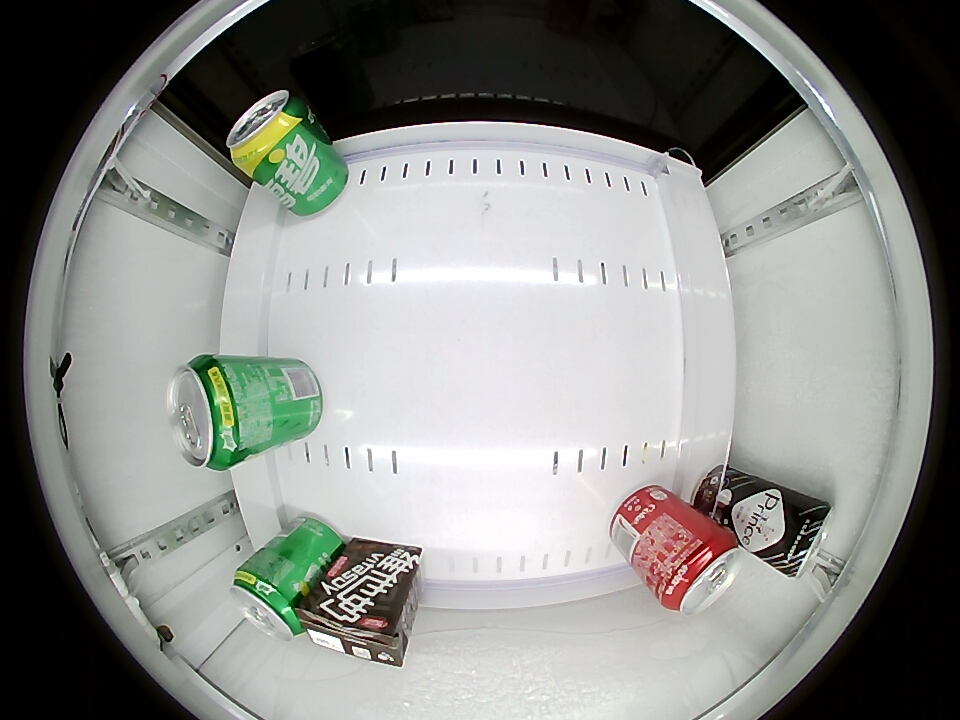kele: (656, 531, 741, 615)
qingdaowangzi-1: (774, 497, 832, 578)
weitanai2: (299, 591, 409, 667)
xuebi2: (168, 354, 253, 471), (226, 90, 312, 170), (230, 564, 307, 641)
